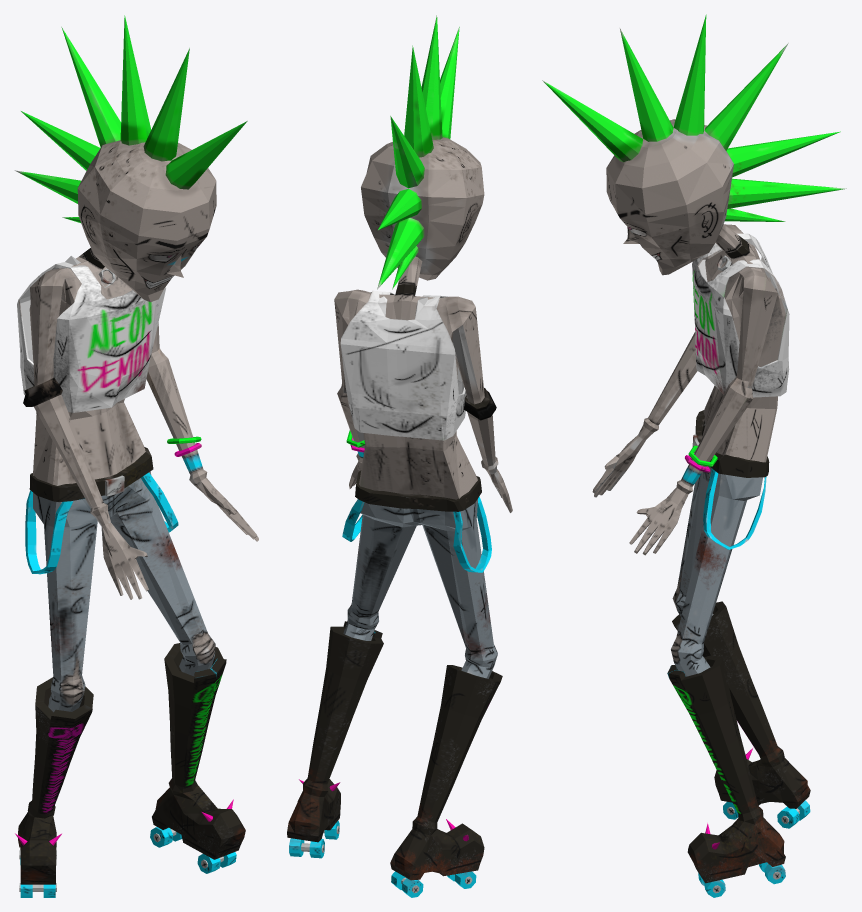
Rendered from punkAnimation_000041.obj.
The picture shows the model from 3 angles, left to right: view 1: azimuth 30°, elevation 25°; view 2: azimuth 150°, elevation 25°; view 3: azimuth 270°, elevation 25°; orthographic projection. The views are drawn at different scales.
Visible parts, largest first — view 1: Cube.004_Cube.003; view 2: Cube.004_Cube.003; view 3: Cube.004_Cube.003.
Part boxes in pixels (box(x1,y1,x2,y2)): Cube.004_Cube.003: box(14, 15, 258, 897); Cube.004_Cube.003: box(287, 15, 512, 897); Cube.004_Cube.003: box(542, 14, 846, 897).
Size of the model in its own units: 1.84 by 7.33 by 2.44.
